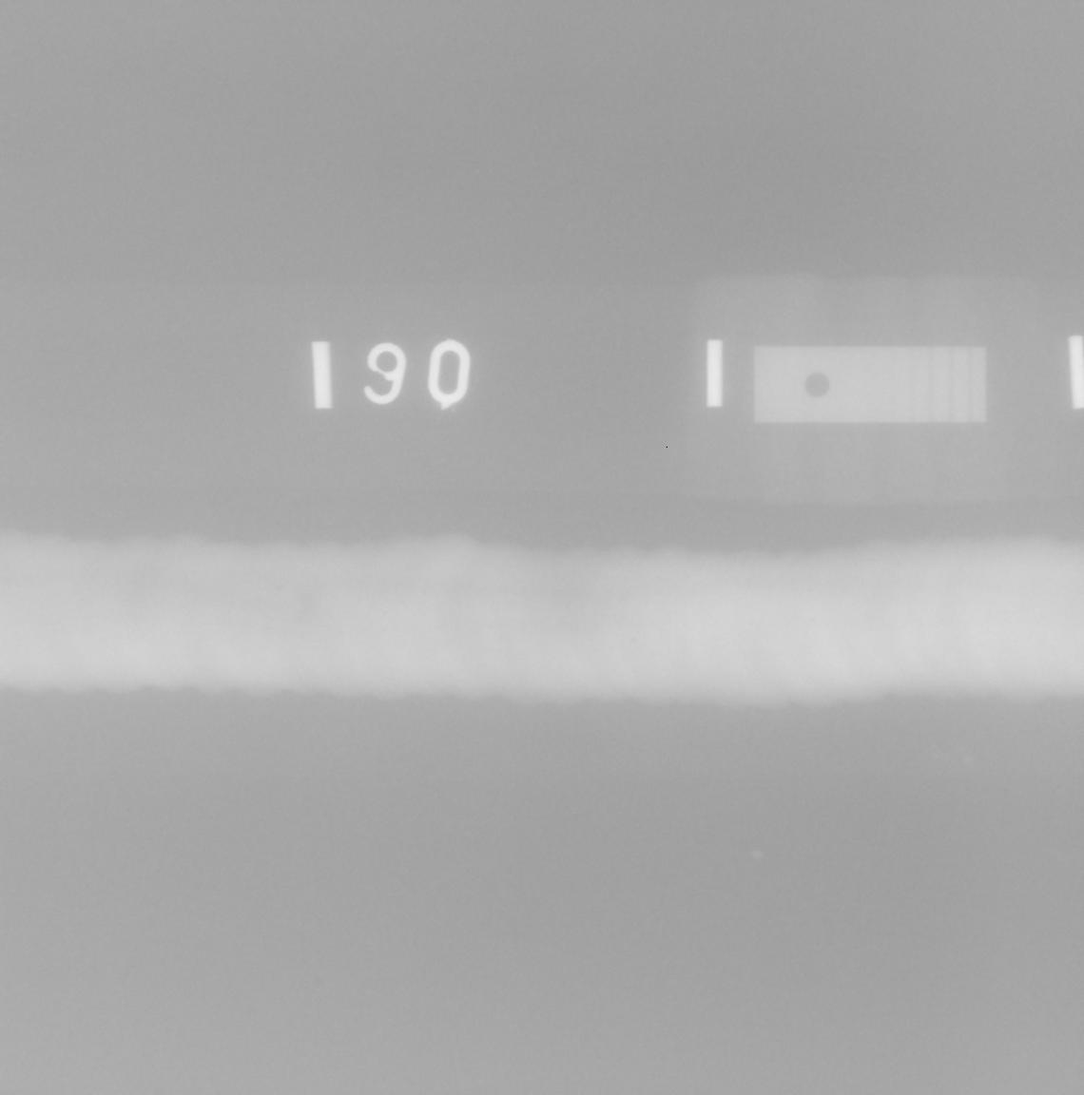Inclusion: (275, 587, 281, 591), (339, 632, 343, 637), (810, 618, 814, 622)
Pore/Porosity: (630, 638, 637, 644)
Reference Standard 1: (752, 345, 986, 423)
